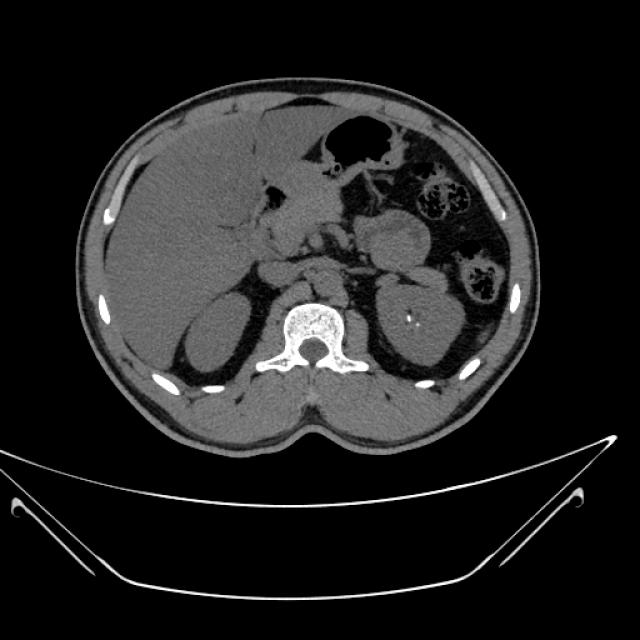kidney: (378, 270, 465, 366), (183, 289, 254, 375)
stone: (402, 308, 416, 326), (411, 318, 425, 329)
